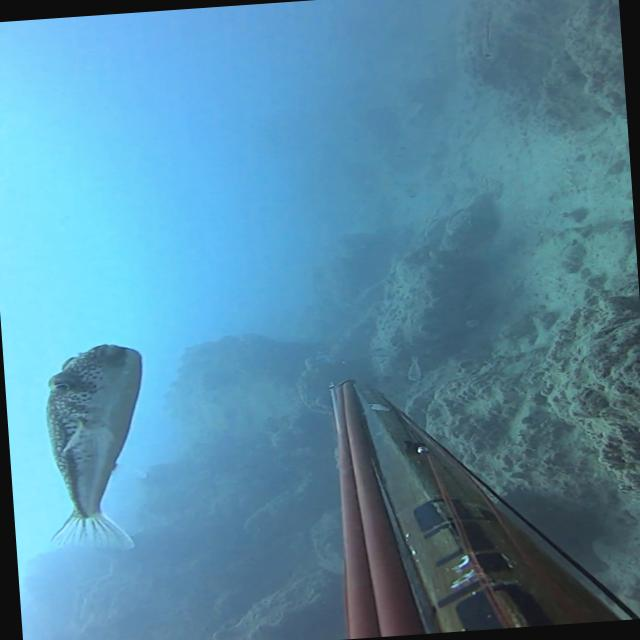Balon Baligi: (32, 340, 156, 557), (477, 8, 499, 60), (404, 354, 422, 380)
